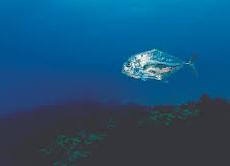Carangidae -Jacks-: (118, 41, 202, 86)
